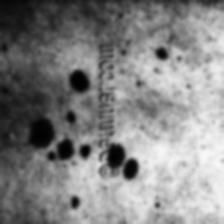Potentially Malignant Skin Tumors: (25, 115, 65, 149), (68, 65, 96, 93), (153, 45, 170, 57)
